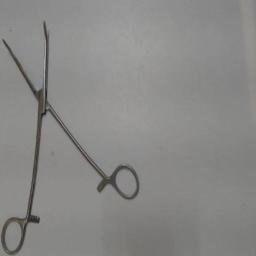Lahey Forceps: (1, 15, 143, 255)
